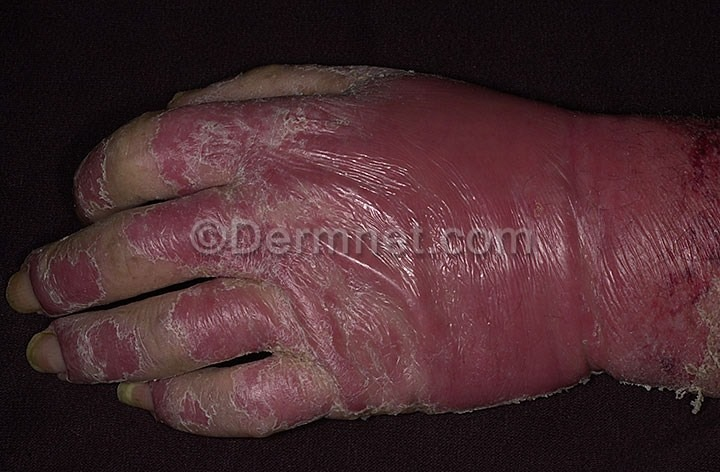Psoriasis: (169, 80, 720, 413), (16, 229, 113, 321), (48, 318, 159, 390), (148, 382, 226, 440), (59, 135, 118, 210)
